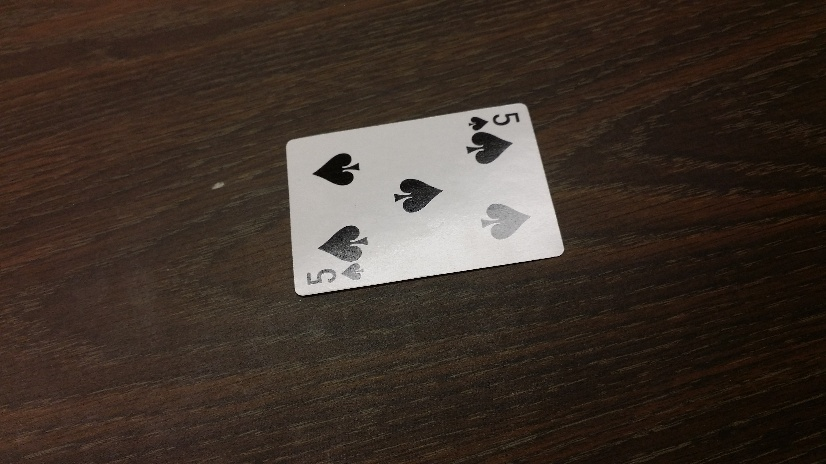S5: (468, 109, 523, 133), (305, 263, 364, 285)
